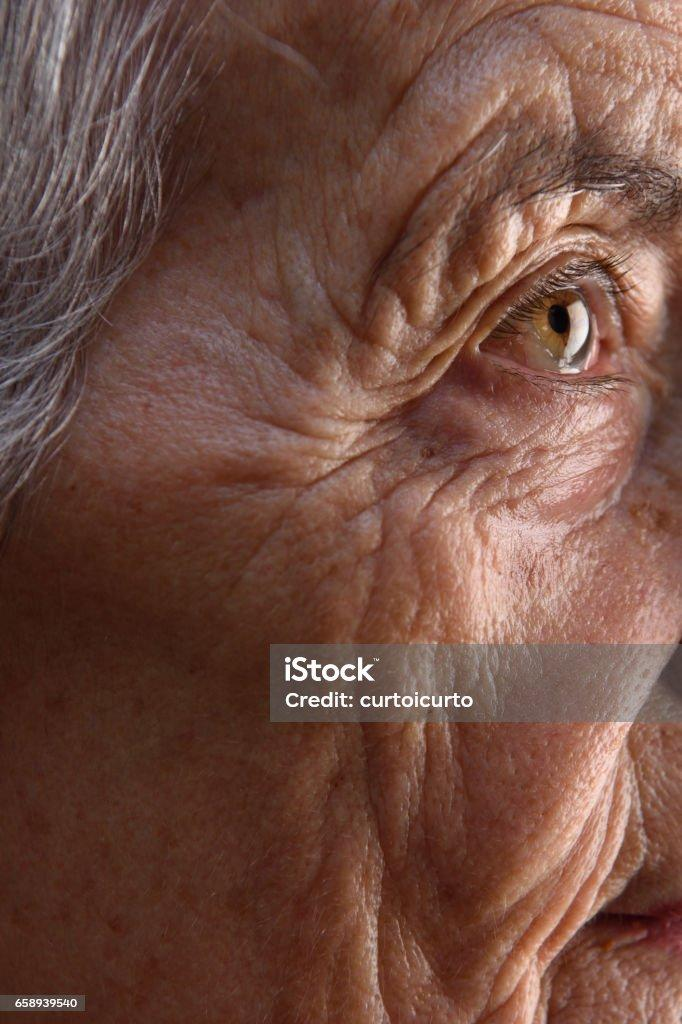Dry-Skin: (30, 665, 455, 1024), (138, 92, 370, 618), (400, 552, 635, 890), (455, 0, 682, 235), (325, 748, 492, 900)
